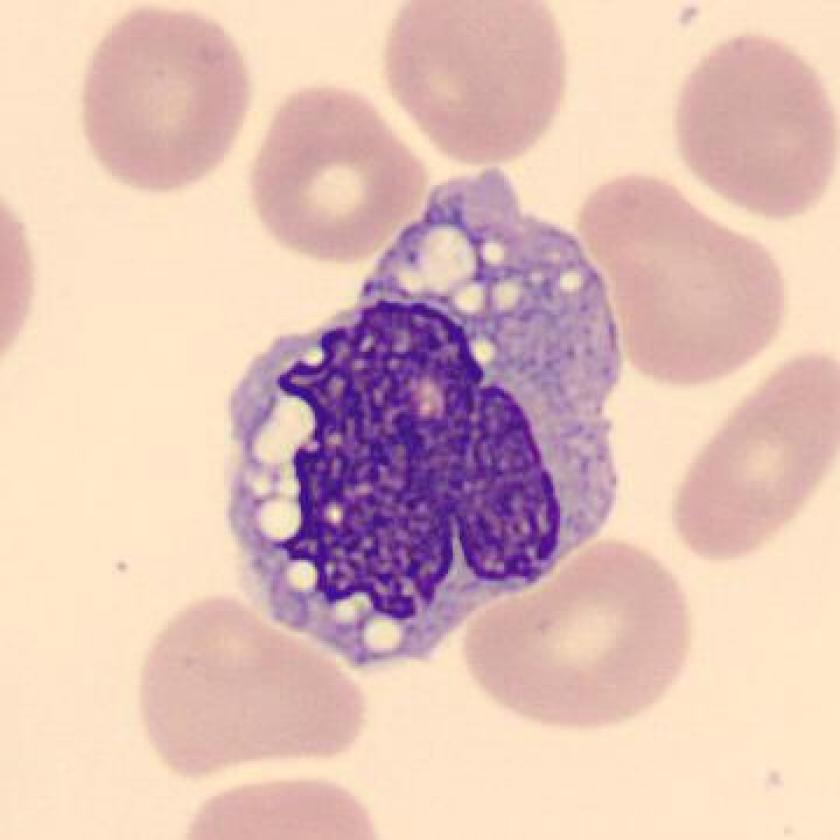monocyte: (192, 159, 650, 689)
